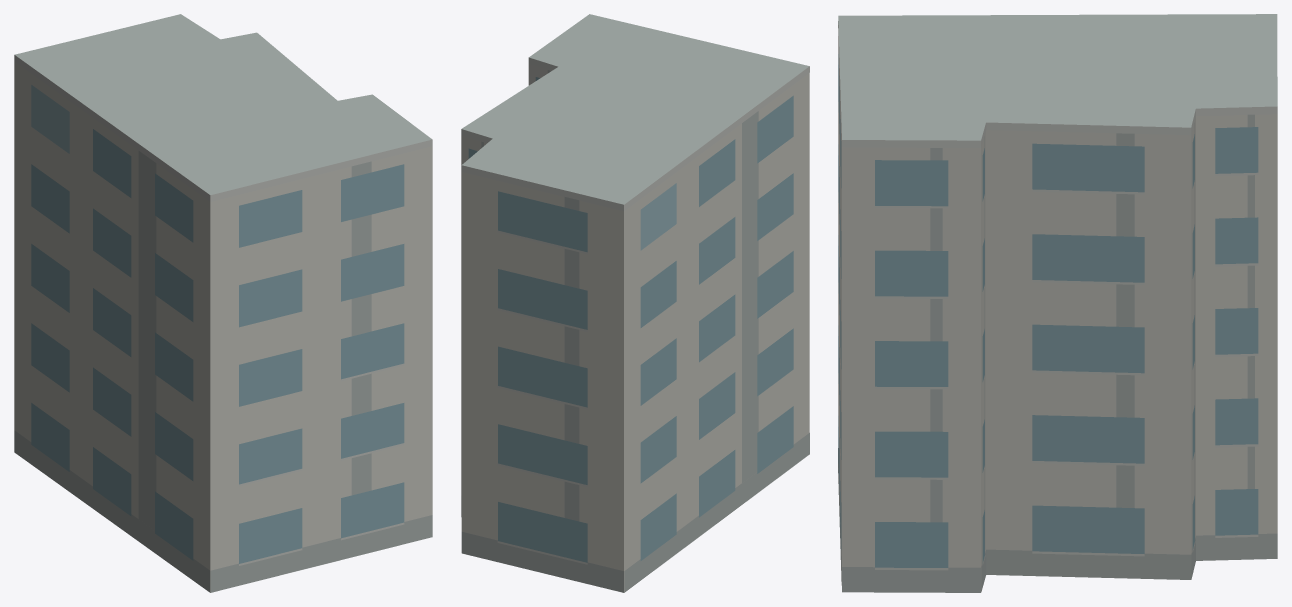
File: survey-upis-32772850.glb
The picture shows the model from 3 angles, left to right: view 1: azimuth 30°, elevation 25°; view 2: azimuth 150°, elevation 25°; view 3: azimuth 270°, elevation 25°; orthographic projection. The views are drawn at different scales.
Parts seen in each view (by area): view 1: survey-upis-32772850.tmp; view 2: survey-upis-32772850.tmp; view 3: survey-upis-32772850.tmp.
Boxes of the visible parts, x1=… form: survey-upis-32772850.tmp: x1=14, y1=14, x2=432, y2=592; survey-upis-32772850.tmp: x1=461, y1=14, x2=809, y2=592; survey-upis-32772850.tmp: x1=838, y1=14, x2=1277, y2=592.
Size of the model in its own units: 8.77 by 14.6 by 12.87.
